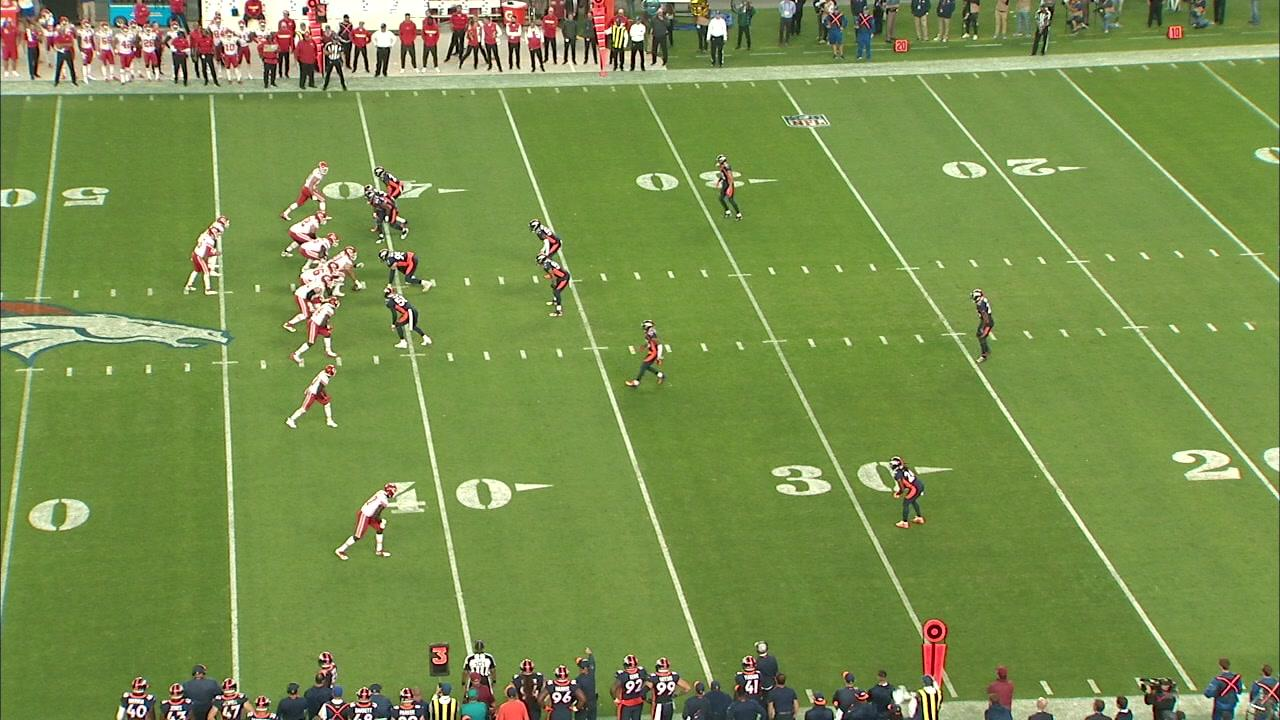player: (333, 480, 401, 563), (283, 362, 341, 432), (288, 295, 342, 365), (279, 159, 335, 223), (621, 317, 669, 390), (382, 285, 433, 351), (281, 273, 335, 335), (886, 453, 927, 531), (180, 226, 225, 297), (376, 247, 433, 294), (533, 251, 572, 319), (279, 209, 329, 261), (317, 245, 366, 298), (362, 191, 410, 245), (361, 183, 409, 233), (197, 213, 233, 278), (527, 217, 564, 280), (299, 259, 341, 312), (969, 287, 996, 366), (713, 153, 743, 223), (298, 231, 341, 275), (373, 165, 405, 204)
ref: (459, 637, 501, 701), (318, 35, 349, 95), (1028, 3, 1053, 59)
